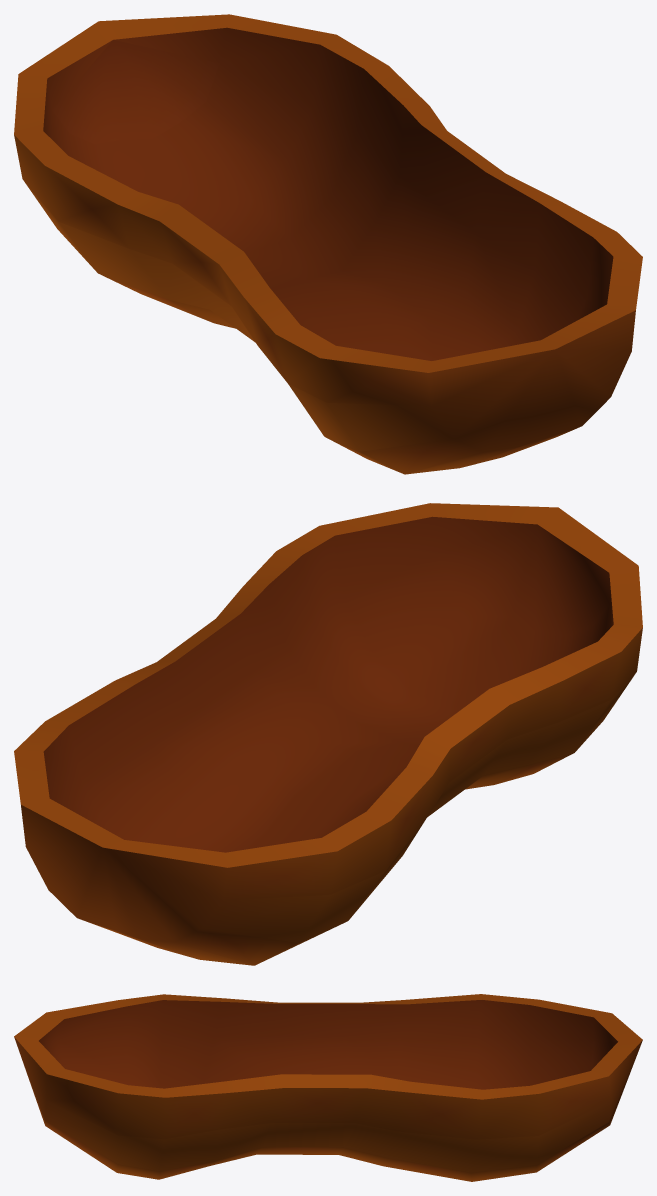
Rendered from Peanut_Opened.fbx.
The picture shows the model from 3 angles, top to bottom: view 1: azimuth 30°, elevation 25°; view 2: azimuth 150°, elevation 25°; view 3: azimuth 270°, elevation 25°; orthographic projection. The views are drawn at different scales.
Parts seen in each view (by area): view 1: Peanut_Opened; view 2: Peanut_Opened; view 3: Peanut_Opened.
Boxes of the visible parts, x1=… form: Peanut_Opened: x1=14, y1=14, x2=642, y2=474; Peanut_Opened: x1=14, y1=503, x2=642, y2=965; Peanut_Opened: x1=14, y1=994, x2=642, y2=1181.
Bounding box in the file's own units: 6.72 × 3.47 × 15.38.
